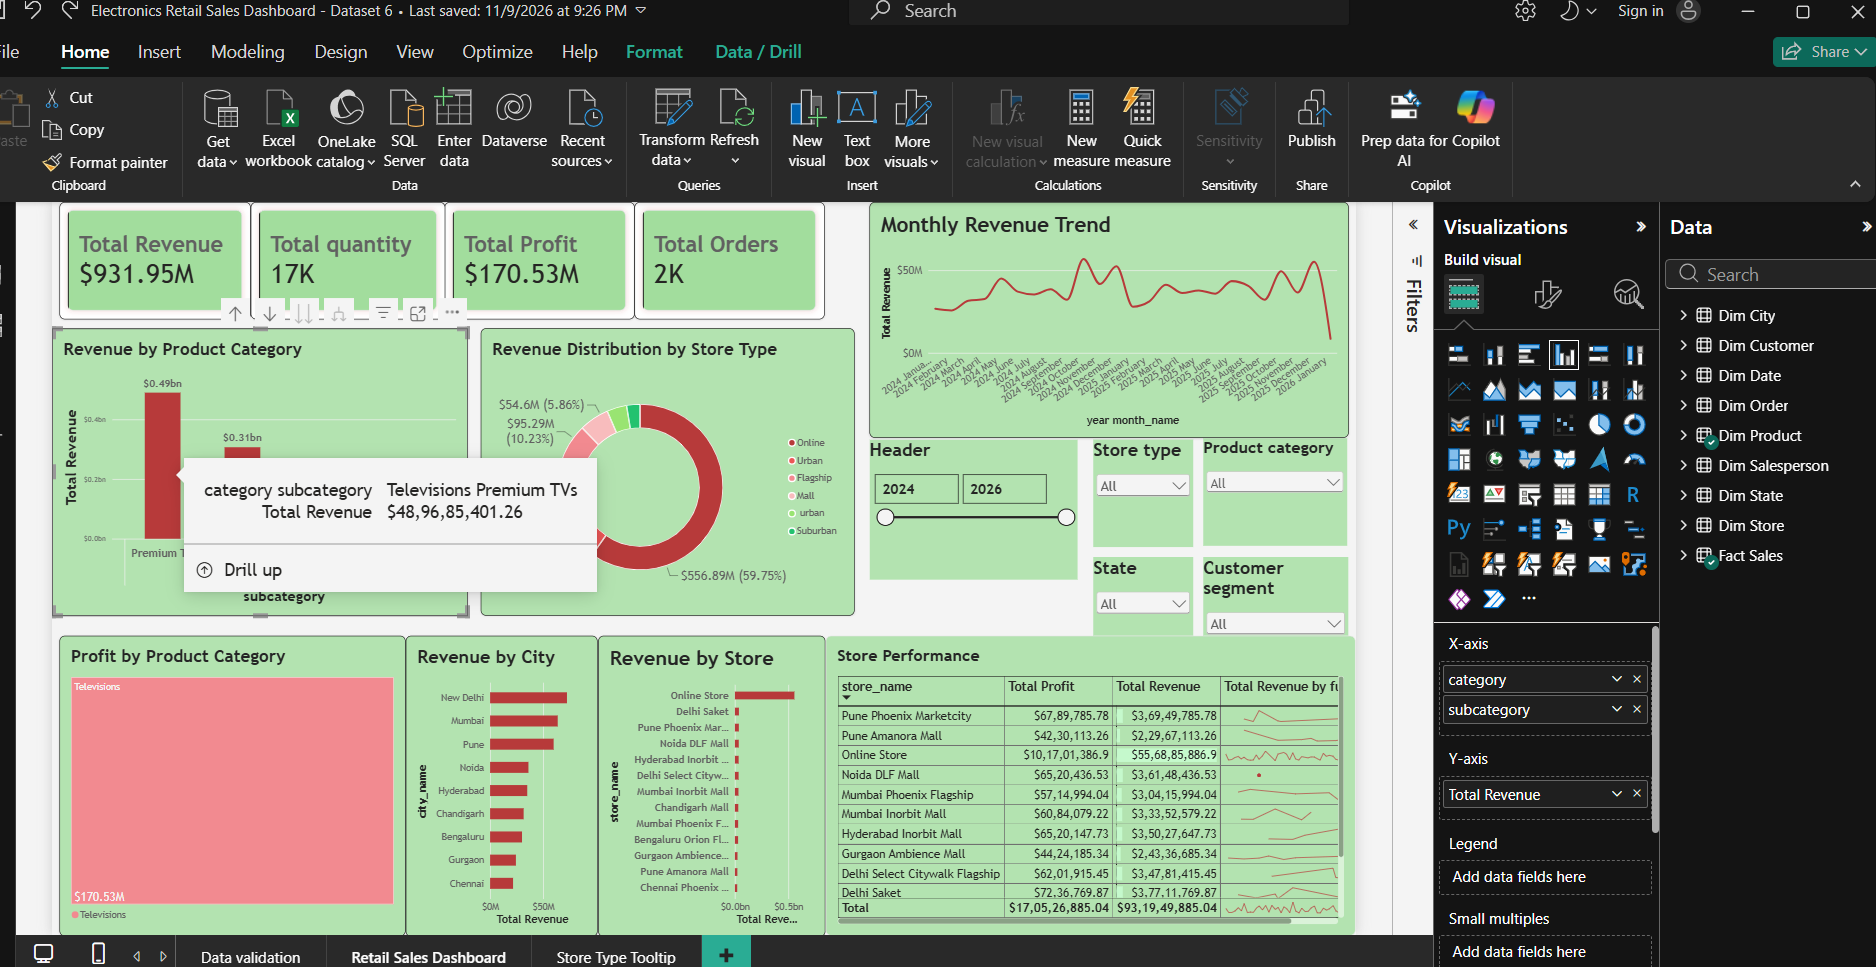

The dashboard page shown, as its layout file describes it:
{"tool":"powerbi","page":{"name":"Retail Sales Dashboard","canvas":[1920,1080],"ordinal":1},"visuals":[{"type":"cardVisual","fields":{"Data":["Fact Sales.Total Revenue"]},"box":[10.3,0,282,172.9],"z":0},{"type":"cardVisual","fields":{"Data":["Fact Sales.Total Profit"]},"box":[578.4,0,279.9,172.9],"z":1000},{"type":"cardVisual","fields":{"Data":["Fact Sales.Total Orders"]},"box":[858.3,0,279.9,172.9],"z":2000},{"type":"cardVisual","fields":{"Data":["Fact Sales.Total quantity"]},"box":[292.3,0,286.1,172.9],"z":3000},{"type":"clusteredColumnChart","title":"Revenue by Product Category","fields":{"Category":["Dim Product.category","Dim Product.subcategory"],"Y":["Fact Sales.Total Revenue"]},"box":[0,186.6,612,423.6],"z":4000},{"type":"treemap","title":"Profit by Product Category","fields":{"Group":["Dim Product.category"],"Values":["Fact Sales.Total Profit"]},"box":[11.2,638.2,509.4,442.2],"z":5000},{"type":"clusteredBarChart","title":"Revenue by Store","fields":{"Category":["Dim Store.store_name"],"Y":["Fact Sales.Total Revenue"]},"box":[804.2,638.2,334.8,443.4],"z":6000},{"type":"lineChart","title":" Monthly Revenue Trend","fields":{"Category":["Dim Date.year","Dim Date.month_name"],"Y":["Fact Sales.Total Revenue"]},"box":[1203.4,0,705.8,347.5],"z":7000},{"type":"donutChart","title":"Revenue Distribution by Store Type","fields":{"Category":["Dim Store.store_type"],"Y":["Fact Sales.Total Revenue"]},"box":[630.7,186.6,550.5,423.6],"z":8000},{"type":"clusteredBarChart","title":"Revenue by City","fields":{"Category":["Dim City.city_name"],"Y":["Fact Sales.Total Revenue"]},"box":[520.6,638.2,282.3,443.4],"z":9000},{"type":"slicer","title":"Product category","fields":{"Values":["Dim Product.category"]},"box":[1695.1,347.9,211.7,158.3],"z":10000},{"type":"slicer","title":"Store type","fields":{"Values":["Dim Store.store_type"]},"box":[1533.1,349.7,147.2,158.3],"z":11000},{"type":"slicer","title":"Customer segment","fields":{"Values":["Dim Customer.customer_segment"]},"box":[1695.1,522.7,213.5,116],"z":12000},{"type":"slicer","title":"State","fields":{"Values":["Dim State.state_name"]},"box":[1533.1,522.7,147.2,116],"z":13000},{"type":"slicer","title":"Header","fields":{"Values":["Dim Date.year"]},"box":[1203.5,348.9,306,206],"z":14000},{"type":"tableEx","title":"Store Performance","fields":{"Values":["Dim Store.store_name","Fact Sales.Total Profit","Fact Sales.Total Revenue","SparklineData(Fact Sales.Total Revenue_[Dim Date.full_date])"]},"box":[1139.3,638.7,780.4,441.7],"z":14001}]}

Visuals, with their boxes on the page's 1920x1080 design canvas (x1, y1, x2, y2). These are canvas units, not pixel positions in the 1876x967 screenshot, which may show the page scaled, cropped or inside an application window:
cardVisual - Fact Sales.Total Revenue: box(10, 0, 292, 173)
cardVisual - Fact Sales.Total Profit: box(578, 0, 858, 173)
cardVisual - Fact Sales.Total Orders: box(858, 0, 1138, 173)
cardVisual - Fact Sales.Total quantity: box(292, 0, 578, 173)
"Revenue by Product Category" clusteredColumnChart: box(0, 187, 612, 610)
"Profit by Product Category" treemap: box(11, 638, 521, 1080)
"Revenue by Store" clusteredBarChart: box(804, 638, 1139, 1082)
" Monthly Revenue Trend" lineChart: box(1203, 0, 1909, 348)
"Revenue Distribution by Store Type" donutChart: box(631, 187, 1181, 610)
"Revenue by City" clusteredBarChart: box(521, 638, 803, 1082)
"Product category" slicer: box(1695, 348, 1907, 506)
"Store type" slicer: box(1533, 350, 1680, 508)
"Customer segment" slicer: box(1695, 523, 1909, 639)
"State" slicer: box(1533, 523, 1680, 639)
"Header" slicer: box(1204, 349, 1510, 555)
"Store Performance" tableEx: box(1139, 639, 1920, 1080)
